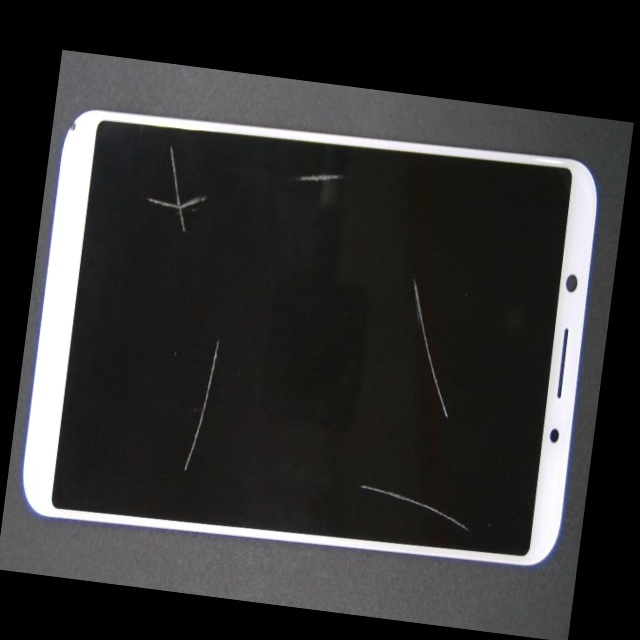scratch: (298, 314, 605, 640), (105, 114, 323, 546), (267, 296, 607, 508), (228, 113, 482, 224), (141, 130, 296, 257)
